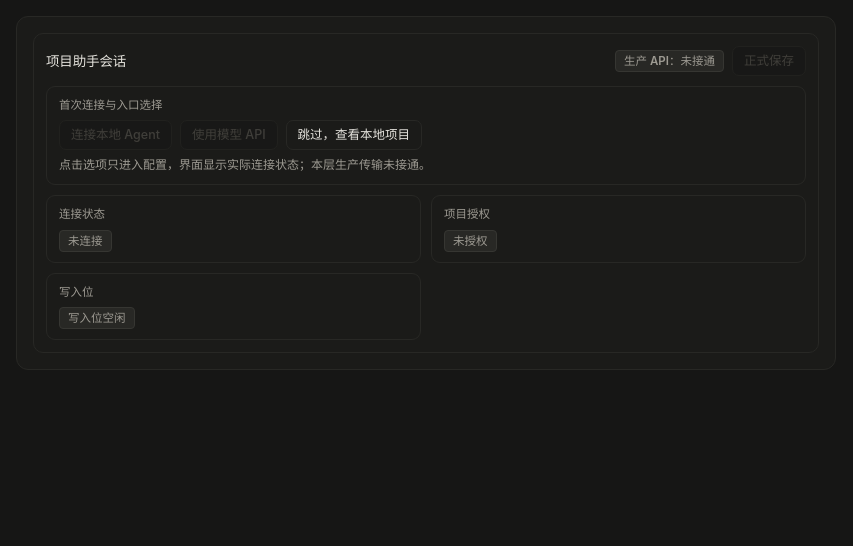
ProjectAgentM1Session › reveals caller-provided local projects on skip without faking connection, and shows empty state when none
Later steps or results of the test are not shown.
Expected: the text "local-proj-1" is not shown
Click the button "跳过，查看本地项目" at [354, 135], box [286,120,422,150]
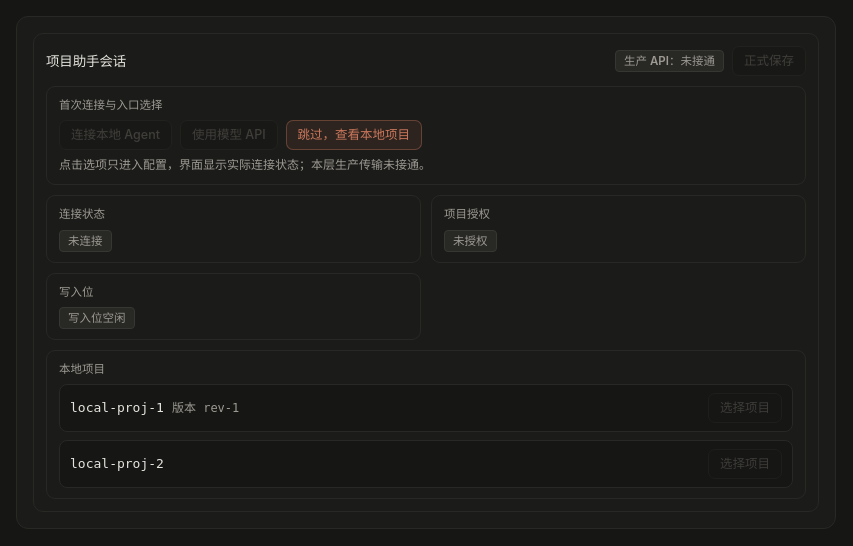
Expected: the element named "连接：未连接" is shown, [46,195,421,263]
Expected: the text "local-proj-1" is shown, [70,398,164,418]
Expected: the text "local-proj-2" is shown, [70,454,164,474]
